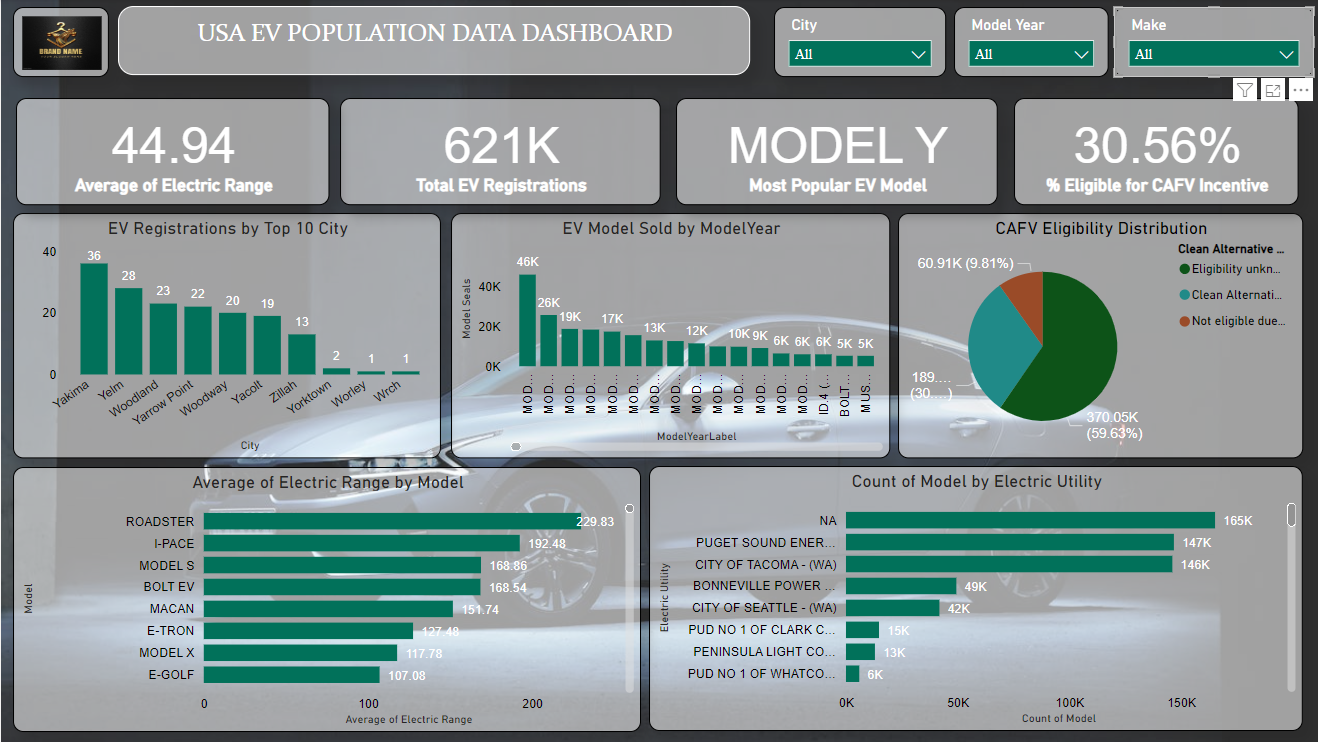

The dashboard page shown, as its layout file describes it:
{"tool":"powerbi","page":{"name":"Electric Vehicle Population Dashboard","canvas":[1280,720],"ordinal":0},"visuals":[{"type":"columnChart","title":"EV Registrations by Top 10 City","fields":{"Category":["Electric_Vehicle_Population_Data.City"],"Y":["Count(Electric_Vehicle_Population_Data.Company)"]},"box":[11.6,207.5,415,237.6],"z":0},{"type":"clusteredColumnChart","title":"EV Model Sold by ModelYear","fields":{"Category":["Electric_Vehicle_Population_Data.ModelYearLabel"],"Y":["CountNonNull(Electric_Vehicle_Population_Data.Model)"]},"box":[436.4,207.5,425.7,237.6],"z":1000},{"type":"pieChart","title":"CAFV Eligibility Distribution","fields":{"Category":["Electric_Vehicle_Population_Data.Clean Alternative Fuel Vehicle (CAFV) Eligibility"],"Y":["CountNonNull(Electric_Vehicle_Population_Data.Model)"]},"box":[869.8,207.5,392.7,237.6],"z":2000},{"type":"barChart","fields":{"Category":["Electric_Vehicle_Population_Data.Model"],"Y":["Avg(Electric_Vehicle_Population_Data.Electric Range)"]},"box":[11.6,453.8,609,257],"z":3000},{"type":"clusteredBarChart","fields":{"Category":["Electric_Vehicle_Population_Data.Electric Utility"],"Y":["CountNonNull(Electric_Vehicle_Population_Data.Model)"]},"box":[628.4,452.8,634.2,257],"z":4000},{"type":"card","fields":{"Values":["Electric_Vehicle_Population_Data.Total EV Registrations"]},"box":[328.7,96,311.3,103.8],"z":5000},{"type":"card","fields":{"Values":["Electric_Vehicle_Population_Data.Most Popular EV Model"]},"box":[654.5,96,312.2,103.8],"z":6000},{"type":"card","fields":{"Values":["Avg(Electric_Vehicle_Population_Data.Electric Range)"]},"box":[15,96,304.5,103.8],"z":7000},{"type":"card","fields":{"Values":["Electric_Vehicle_Population_Data.% CAFV Eligible"]},"box":[982.3,96,276.4,103.8],"z":8000},{"type":"slicer","fields":{"Values":["Electric_Vehicle_Population_Data.City"]},"box":[749.6,7.8,166.8,67.9],"z":9000},{"type":"slicer","fields":{"Values":["Electric_Vehicle_Population_Data.Model Year"]},"box":[924.1,7.8,150.3,67.9],"z":10000},{"type":"slicer","fields":{"Values":["Electric_Vehicle_Population_Data.Make"]},"box":[1079.3,7.8,193.9,67.9],"z":11000},{"type":"image","box":[11.6,7.8,93.1,67.9],"z":12000},{"type":"textbox","box":[113.5,7,612.8,67],"z":13000}]}

Visuals, with their boxes in screenshot pixels (x1, y1, x2, y2), scaled from the page's 1280x720 canvas onto the 1318x742 screenshot:
"EV Registrations by Top 10 City" columnChart: 12,214,439,459
"EV Model Sold by ModelYear" clusteredColumnChart: 449,214,888,459
"CAFV Eligibility Distribution" pieChart: 896,214,1300,459
barChart - Electric_Vehicle_Population_Data.Model x Avg(Electric_Vehicle_Population_Data.Electric Range): 12,468,639,733
clusteredBarChart - Electric_Vehicle_Population_Data.Electric Utility x CountNonNull(Electric_Vehicle_Population_Data.Model): 647,467,1300,731
card - Electric_Vehicle_Population_Data.Total EV Registrations: 338,99,659,206
card - Electric_Vehicle_Population_Data.Most Popular EV Model: 674,99,995,206
card - Avg(Electric_Vehicle_Population_Data.Electric Range): 15,99,329,206
card - Electric_Vehicle_Population_Data.% CAFV Eligible: 1011,99,1296,206
slicer - Electric_Vehicle_Population_Data.City: 772,8,944,78
slicer - Electric_Vehicle_Population_Data.Model Year: 952,8,1106,78
slicer - Electric_Vehicle_Population_Data.Make: 1111,8,1311,78
image: 12,8,108,78
textbox: 117,7,748,76
